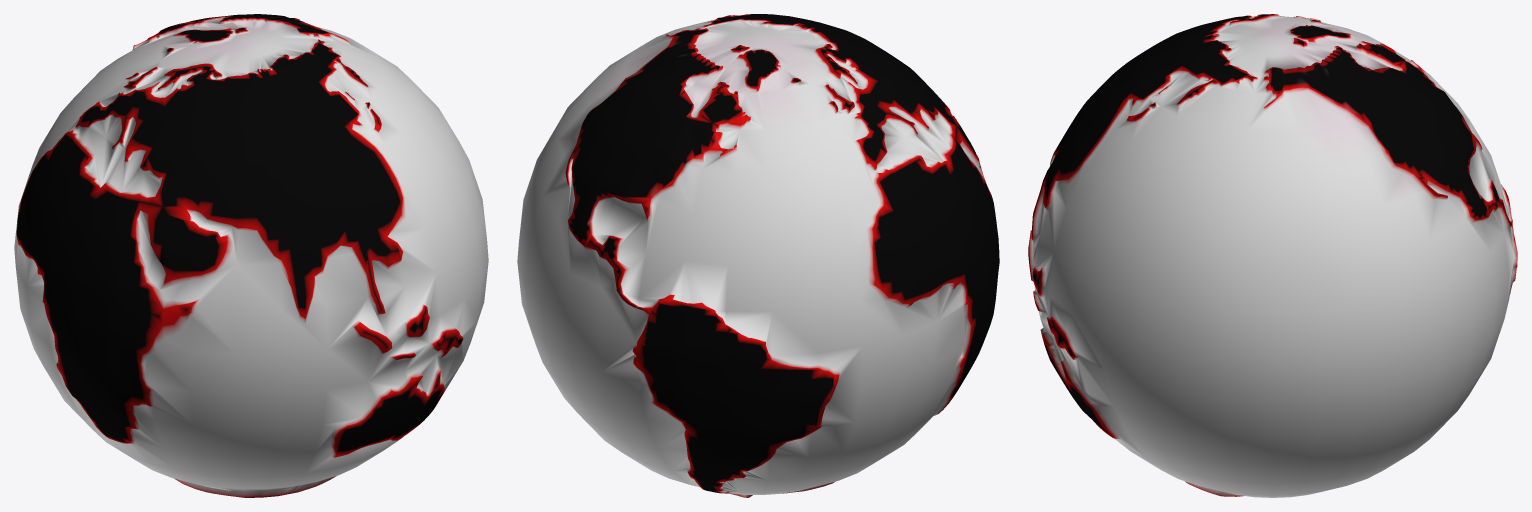
File: Earth.fbx
The picture shows the model from 3 angles, left to right: view 1: azimuth 30°, elevation 25°; view 2: azimuth 150°, elevation 25°; view 3: azimuth 270°, elevation 25°; orthographic projection.
Visible parts, largest first — view 1: Sphere; view 2: Sphere; view 3: Sphere.
Boxes of the visible parts, x1=… form: Sphere: x1=14, y1=14, x2=488, y2=497; Sphere: x1=517, y1=14, x2=999, y2=497; Sphere: x1=1028, y1=14, x2=1517, y2=497.
Size of the model in its own units: 6603 by 6650 by 6667.
